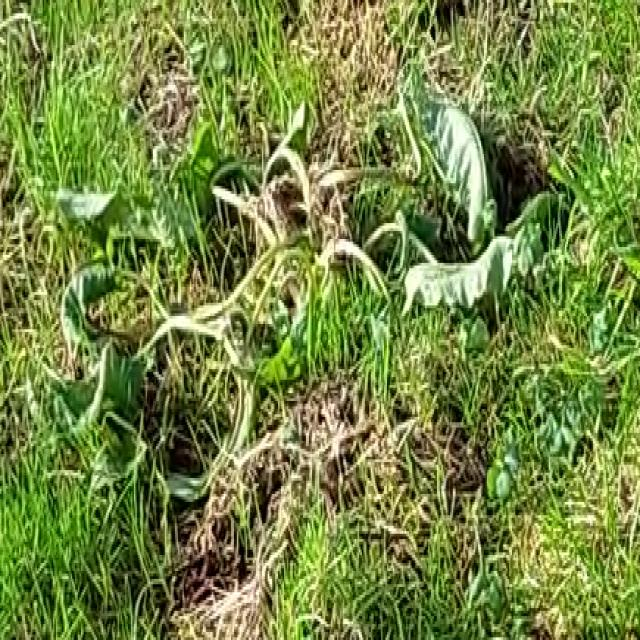organic waste: (36, 45, 592, 526)
